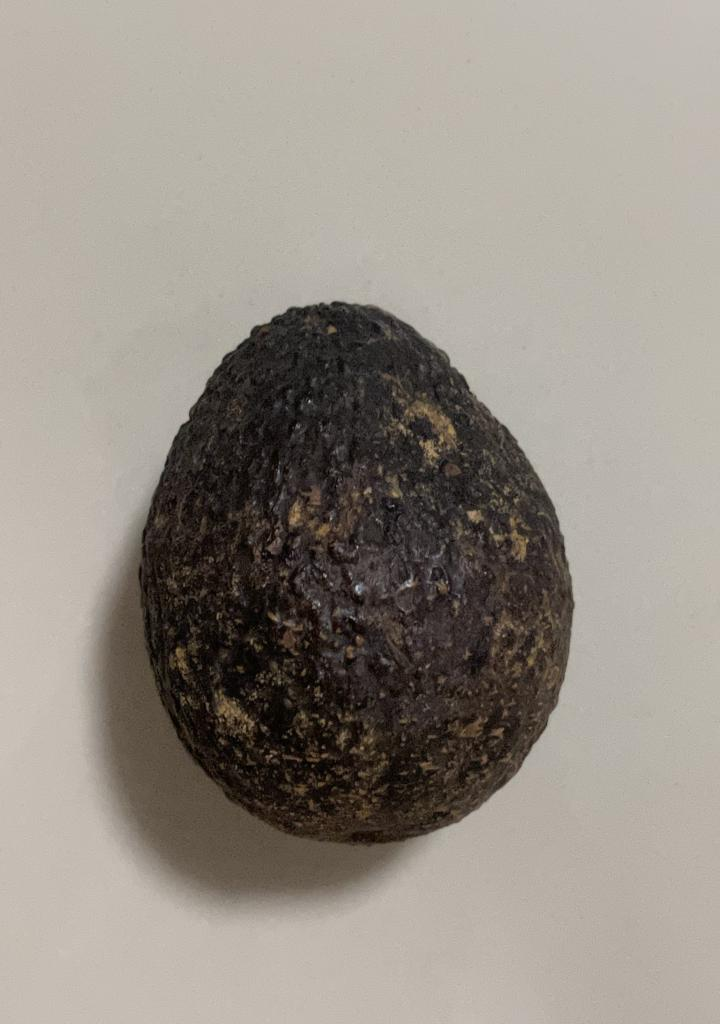Level3: (129, 284, 588, 854)
